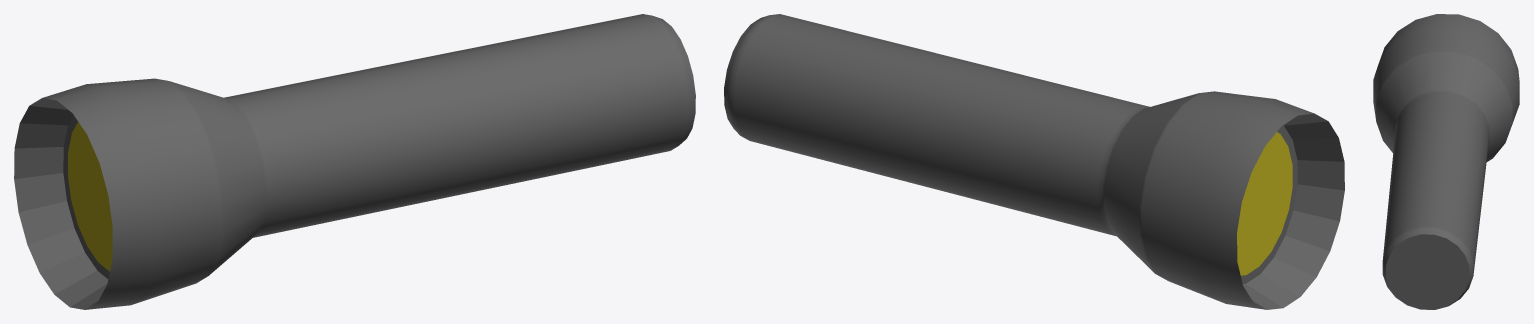
The model's file is Flashlight_Export.fbx.
3 views of the same model, side by side, from view 1: azimuth 30°, elevation 25°; view 2: azimuth 150°, elevation 25°; view 3: azimuth 270°, elevation 25° (orthographic). The views are drawn at different scales.
Parts seen in each view (by area): view 1: pCylinder1; view 2: pCylinder1; view 3: pCylinder1.
Boxes of the visible parts, x1=… form: pCylinder1: x1=14, y1=14, x2=695, y2=309; pCylinder1: x1=724, y1=14, x2=1344, y2=309; pCylinder1: x1=1373, y1=14, x2=1519, y2=309.
Bounding box in the file's own units: 10.38 × 3.37 × 3.37.
